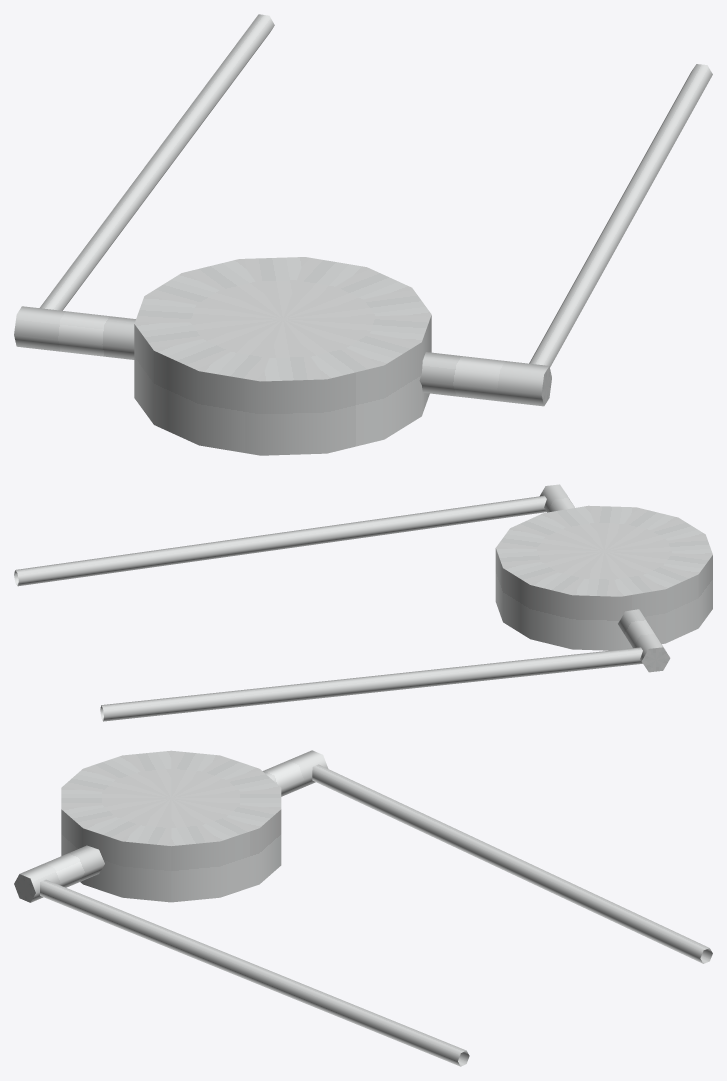
Rendered from nycsignalarm_diagonal12_c0.obj.
3 renders of one model, top to bottom at view 1: azimuth 30°, elevation 25°; view 2: azimuth 150°, elevation 25°; view 3: azimuth 270°, elevation 25°, orthographic. The views are drawn at different scales.
Visible parts, largest first — view 1: nycsignalarm_diagonal12_c0; view 2: nycsignalarm_diagonal12_c0; view 3: nycsignalarm_diagonal12_c0.
Boxes of the visible parts, x1,y1,x2,y2 form: nycsignalarm_diagonal12_c0: [14, 14, 712, 455]; nycsignalarm_diagonal12_c0: [14, 484, 712, 721]; nycsignalarm_diagonal12_c0: [14, 750, 712, 1066].
Size of the model in its own units: 2.53 by 0.225 by 2.53.
